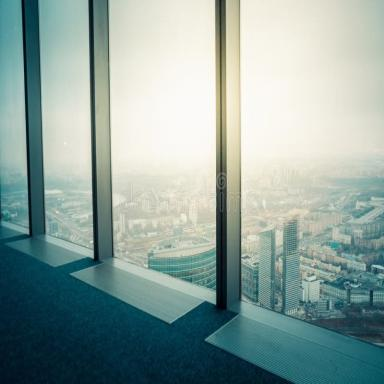glass_panel: (244, 3, 382, 326), (113, 2, 214, 286), (42, 2, 92, 254), (1, 1, 28, 233), (95, 1, 107, 256)
